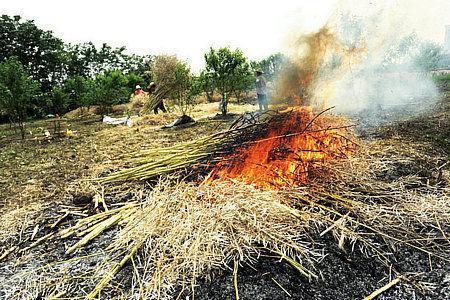fire: (206, 107, 354, 183)
